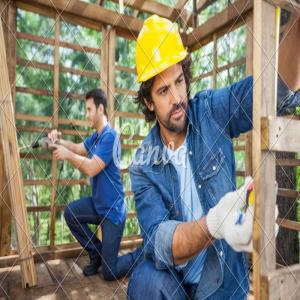none: (87, 90, 110, 130)
yellow: (137, 19, 190, 135)
